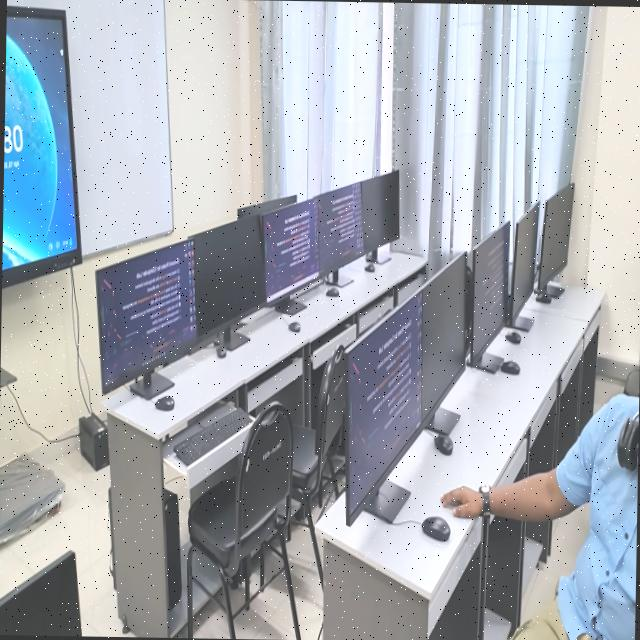Chair: (186, 401, 299, 640), (291, 344, 345, 581)
Digital board: (1, 5, 80, 286)
Keyboard: (172, 408, 247, 464)
Monitor: (345, 291, 421, 524), (95, 240, 195, 392), (191, 213, 265, 335), (420, 252, 465, 422), (466, 222, 509, 371), (262, 197, 317, 301), (315, 181, 363, 275), (506, 201, 537, 329), (536, 182, 573, 289), (360, 168, 398, 261)
Mouse: (420, 515, 449, 540), (433, 433, 451, 453), (154, 394, 173, 409), (499, 359, 519, 373), (504, 330, 519, 343), (534, 292, 550, 302), (215, 343, 225, 357), (287, 320, 299, 331), (325, 286, 338, 295), (363, 261, 373, 271)
